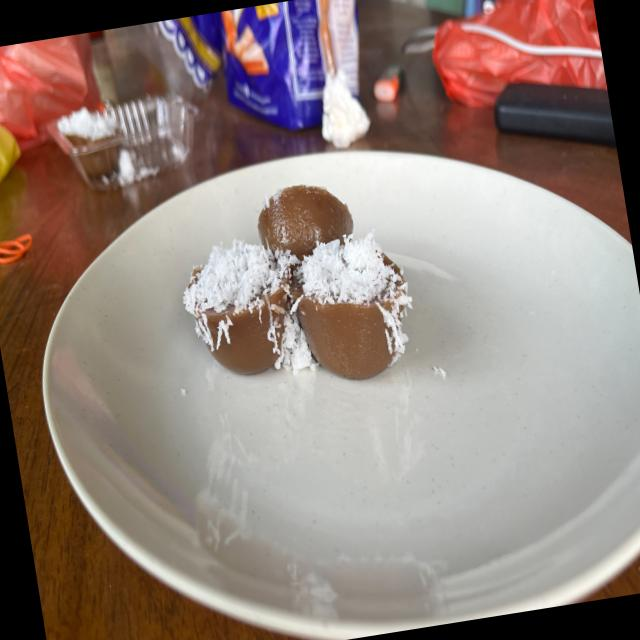Kuih lompang: (294, 231, 412, 380), (184, 240, 313, 374), (258, 185, 354, 260)
